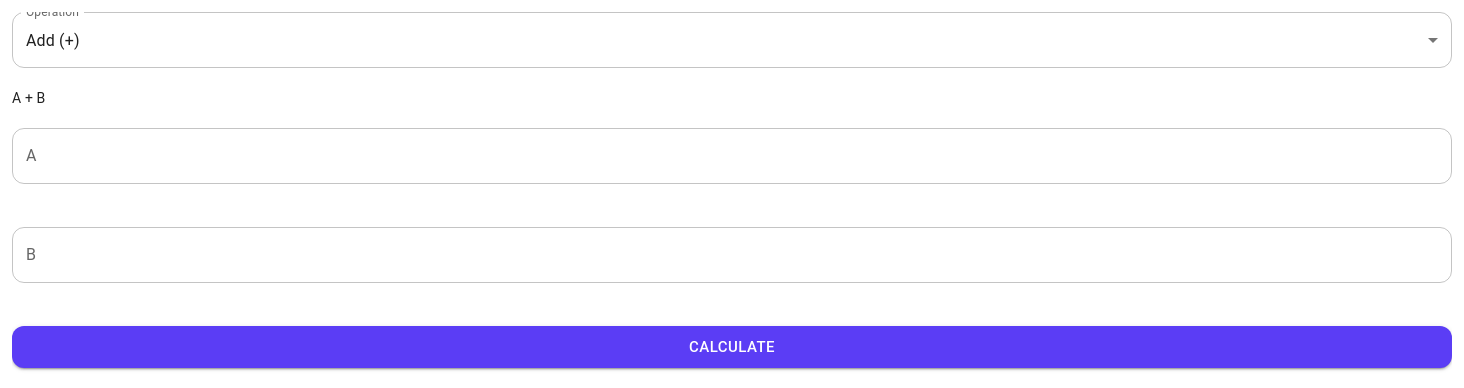
Test: CalculatorForm › shows a single operand input when a unary operation is selected
Click the dropdown named "operation" at x=53, y=40, box [26,30,80,50]
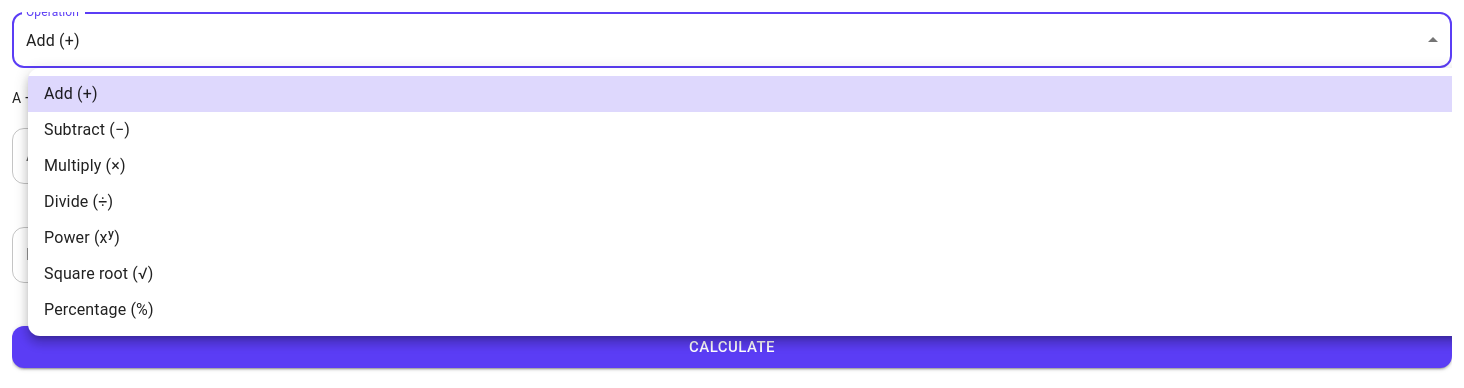
Click the option "Square root (√)" at x=99, y=274, box [44,264,153,283]
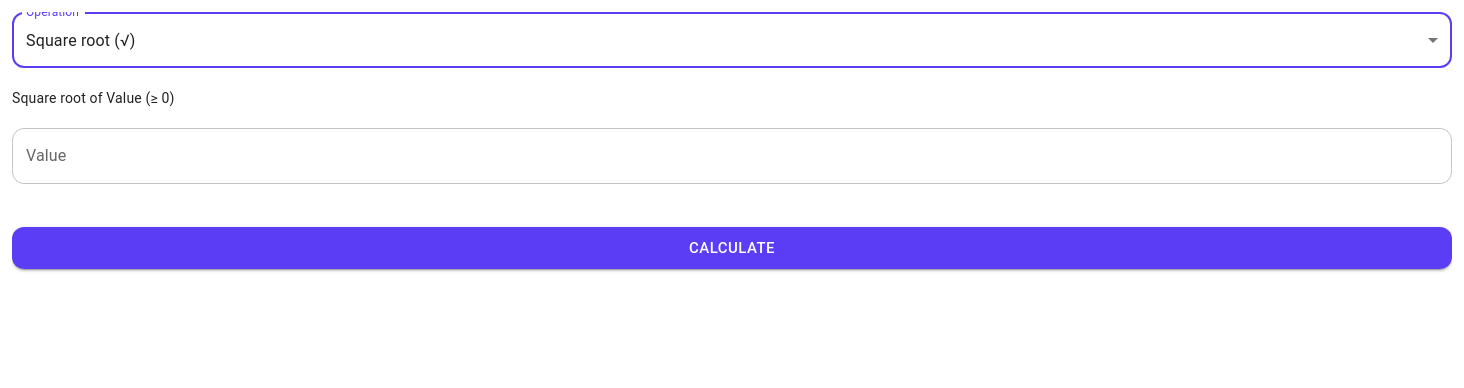
Check: the field labelled "Value" is shown, box [12,128,1452,184]
Check: the text labelled "B" is gone
